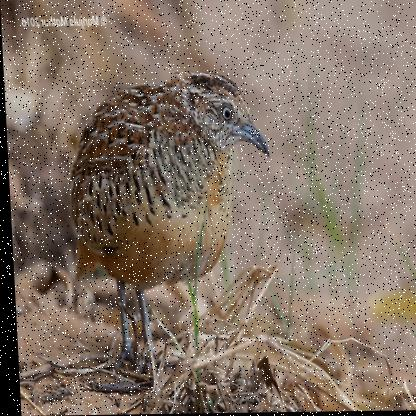Burung: (63, 70, 279, 411)
